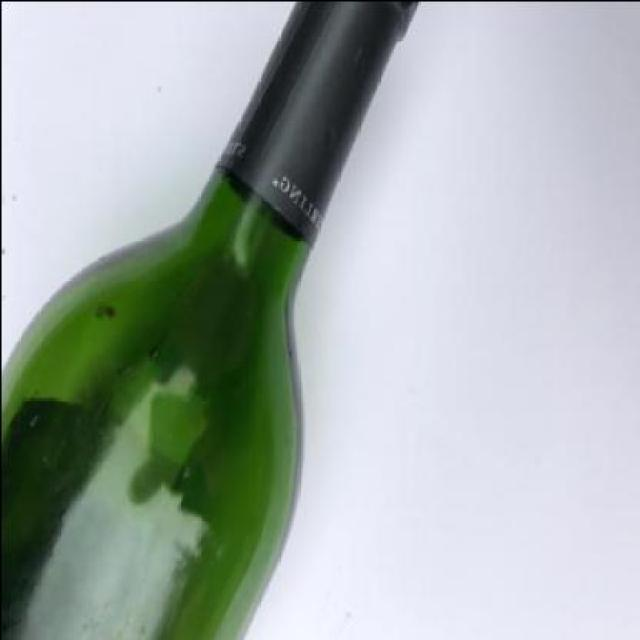glass: (1, 0, 416, 638)
